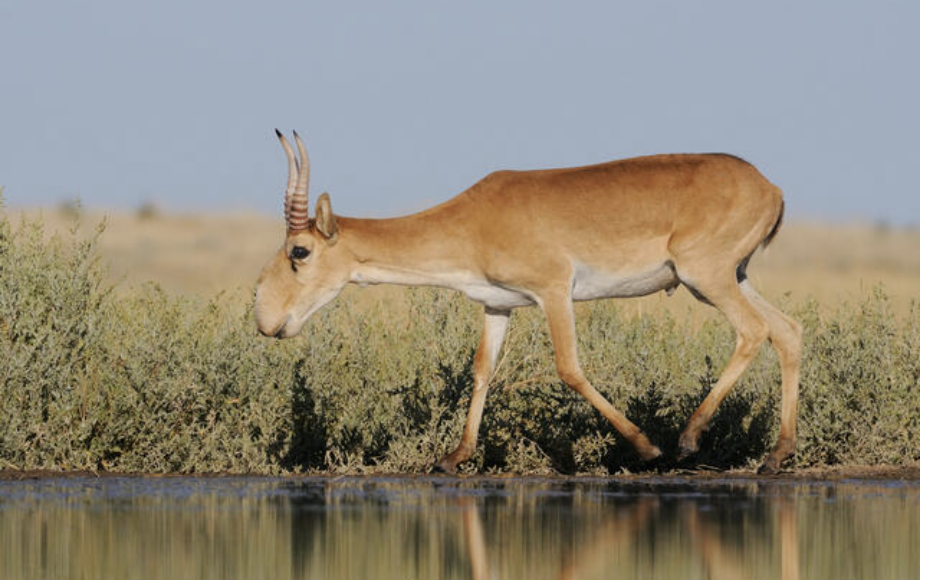saiga: (245, 116, 810, 461)
